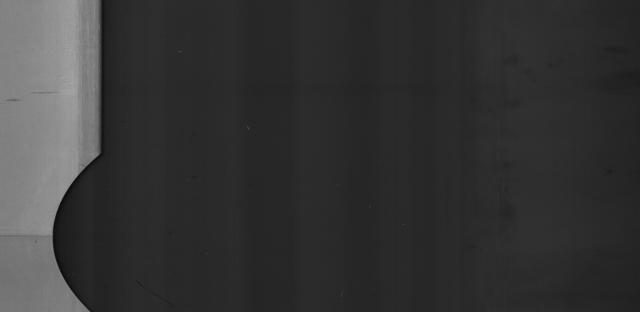crescent_gap: (47, 147, 146, 312)
welding_line: (4, 217, 68, 242)
